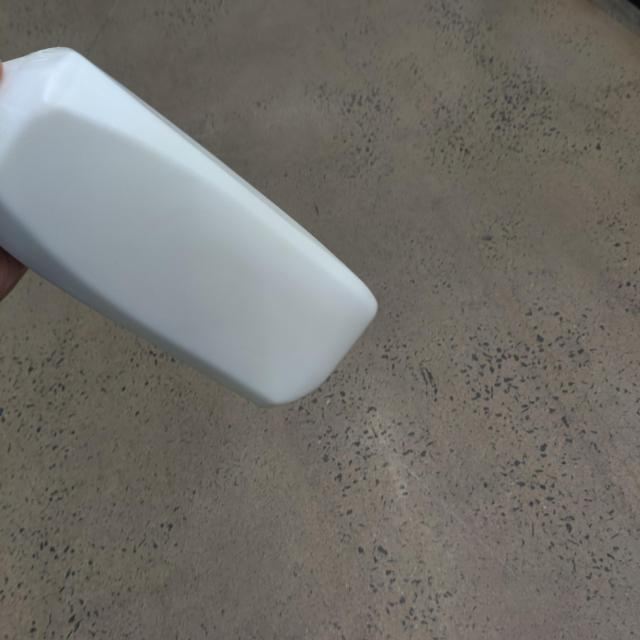Milk: (1, 30, 384, 424)
